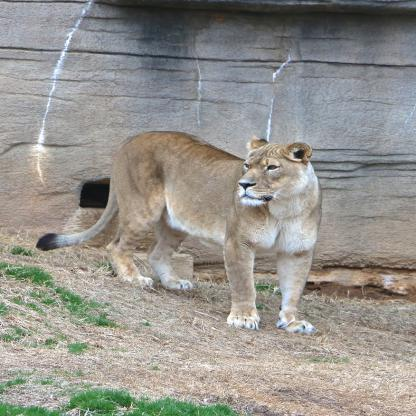lion: (233, 135, 326, 220)
